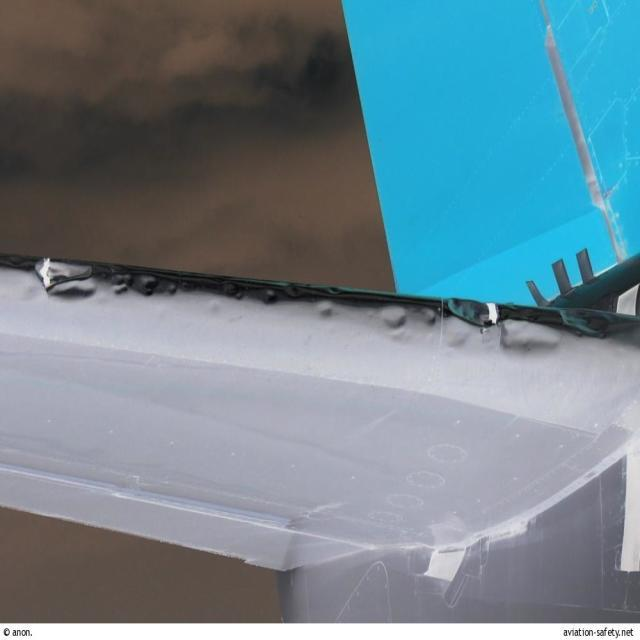dent: (34, 256, 619, 361)
